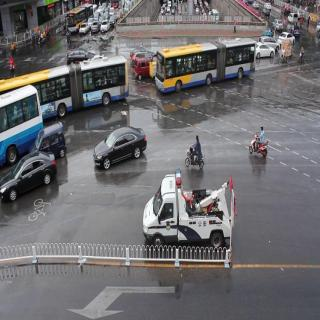Car: (144, 178, 233, 258), (0, 58, 128, 105), (155, 34, 255, 92), (2, 156, 51, 201), (90, 130, 147, 167), (132, 48, 155, 87), (32, 133, 67, 155)
